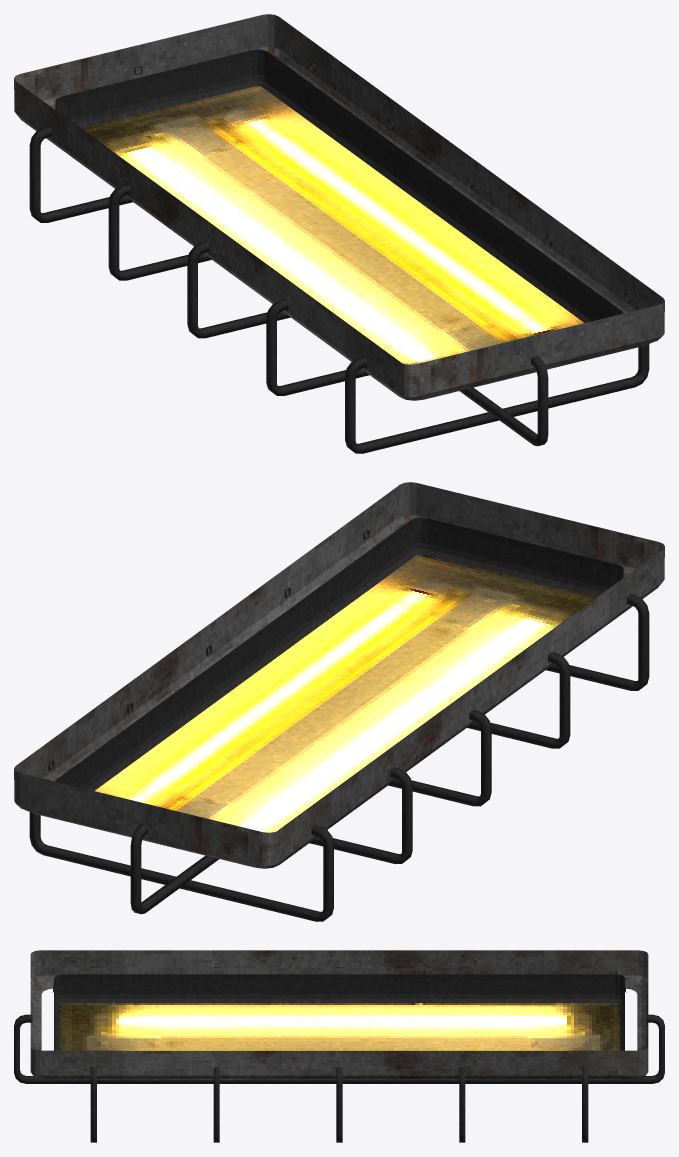
The model's file is ceiling_lamp_2.glb.
3 views of the same model, one above another, from view 1: azimuth 30°, elevation 25°; view 2: azimuth 150°, elevation 25°; view 3: azimuth 270°, elevation 25° (orthographic). The views are drawn at different scales.
Parts seen in each view (by area): view 1: ceiling_lamp_2, ceiling_lamp_2_cover; view 2: ceiling_lamp_2, ceiling_lamp_2_cover; view 3: ceiling_lamp_2, ceiling_lamp_2_cover.
Boxes of the visible parts, bbox=[...] form: ceiling_lamp_2: bbox=[14, 14, 664, 400]; ceiling_lamp_2_cover: bbox=[29, 62, 649, 453]; ceiling_lamp_2: bbox=[14, 482, 664, 868]; ceiling_lamp_2_cover: bbox=[29, 530, 649, 921]; ceiling_lamp_2: bbox=[30, 950, 648, 1079]; ceiling_lamp_2_cover: bbox=[14, 967, 664, 1142].
Bounding box in the file's own units: 0.44 × 0.16 × 1.06.
Materials: 3 (3 with a texture image).
